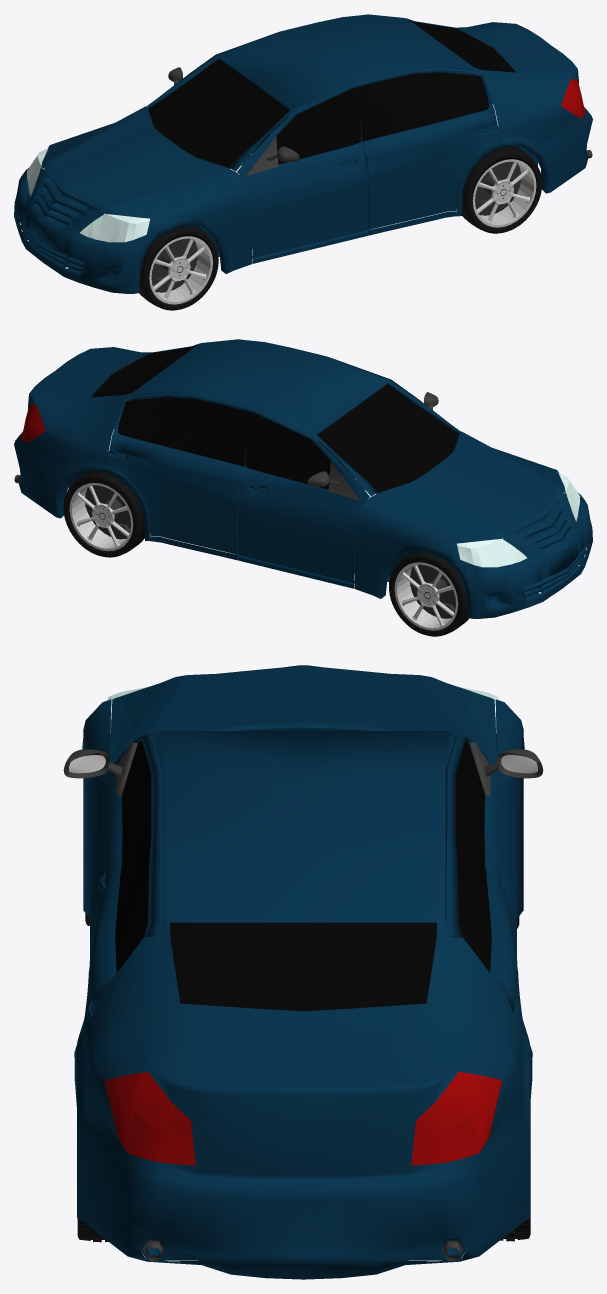
Rendered from Auto.fbx.
3 renders of one model, top to bottom at view 1: azimuth 30°, elevation 25°; view 2: azimuth 150°, elevation 25°; view 3: azimuth 270°, elevation 25°, orthographic. The views are drawn at different scales.
Parts seen in each view (by area): view 1: Auton runko, Rengas2, Rengas1; view 2: Auton runko, Rengas3, Rengas4; view 3: Auton runko.
Boxes of the visible parts, x1=… form: Auton runko: x1=14, y1=14, x2=592, y2=293; Rengas2: x1=462, y1=146, x2=541, y2=233; Rengas1: x1=139, y1=226, x2=218, y2=310; Auton runko: x1=14, y1=339, x2=592, y2=618; Rengas3: x1=63, y1=465, x2=144, y2=557; Rengas4: x1=389, y1=551, x2=468, y2=636; Auton runko: x1=63, y1=665, x2=543, y2=1279.
Size of the model in its own units: 440 by 136 by 174.
